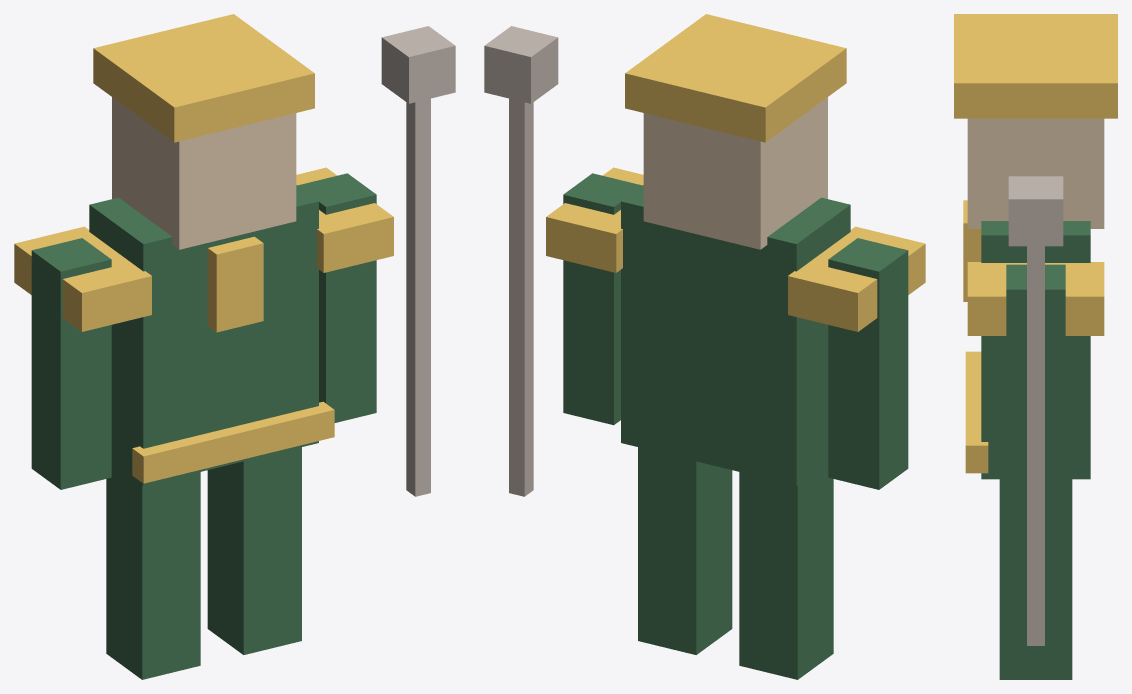
File: 04_nix_signalborn_specialist_at_ranger.glb
3 renders of one model, left to right at view 1: azimuth 30°, elevation 25°; view 2: azimuth 150°, elevation 25°; view 3: azimuth 270°, elevation 25°, orthographic.
Parts seen in each view (by area): view 1: Nix Signalborn, Specialist at Ranger; view 2: Nix Signalborn, Specialist at Ranger; view 3: Nix Signalborn, Specialist at Ranger.
Part boxes in pixels (left/top/right/bottom): Nix Signalborn, Specialist at Ranger: left=14, top=14, right=455, bottom=679; Nix Signalborn, Specialist at Ranger: left=484, top=14, right=925, bottom=679; Nix Signalborn, Specialist at Ranger: left=954, top=14, right=1117, bottom=679.
Bounding box in the file's own units: 1.04 × 1.48 × 0.3703.
